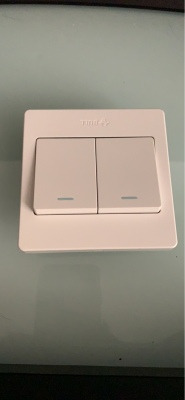switch: (94, 131, 167, 220), (31, 130, 102, 219)
